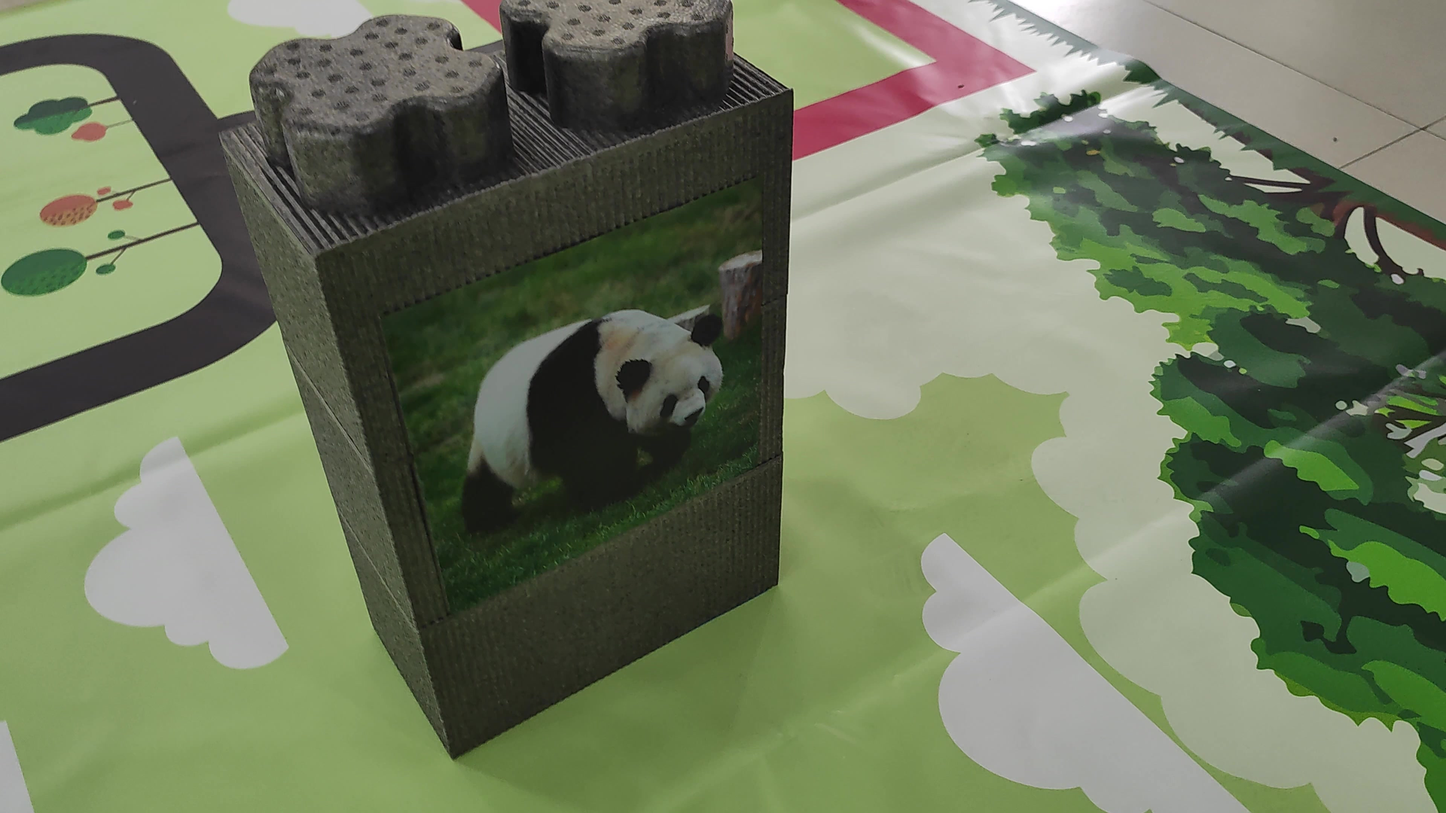panda: (397, 230, 767, 547)
